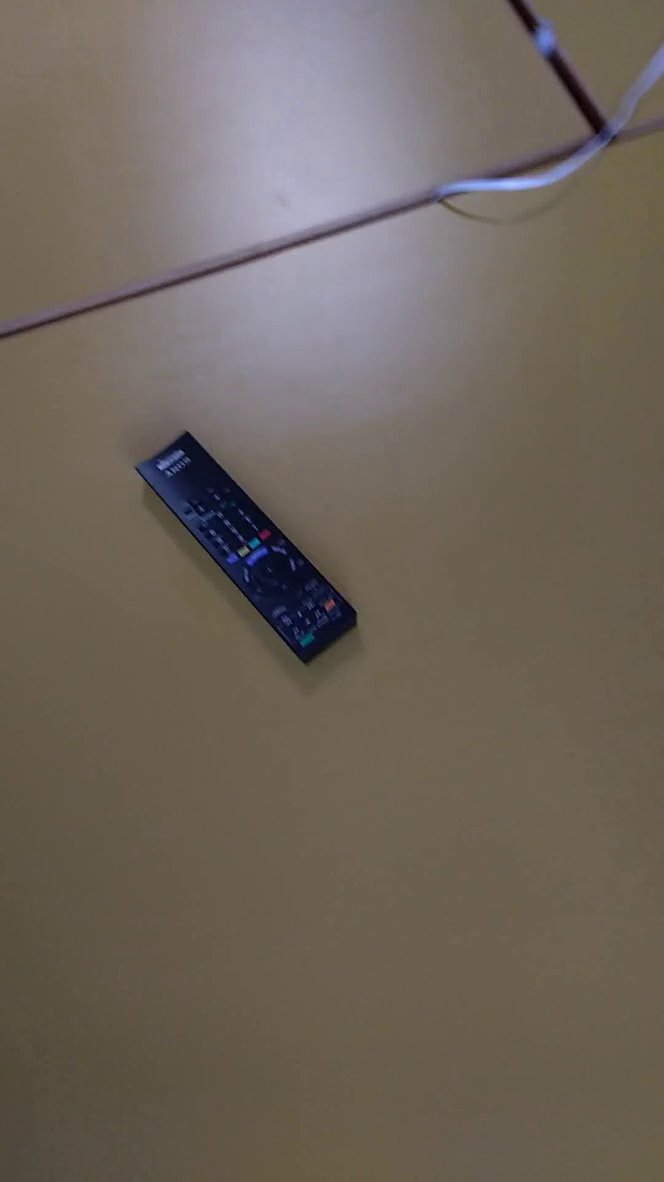remote: (126, 414, 369, 678)
